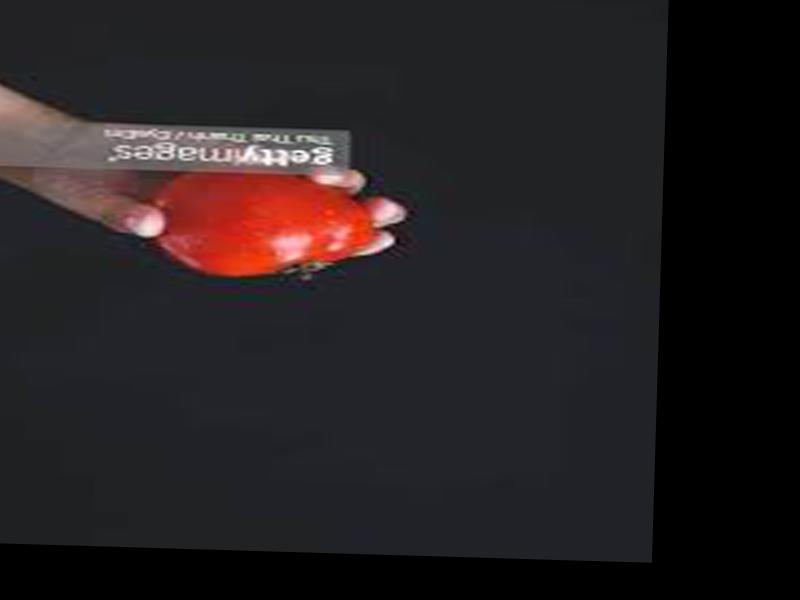Tomato: (157, 165, 383, 281)
